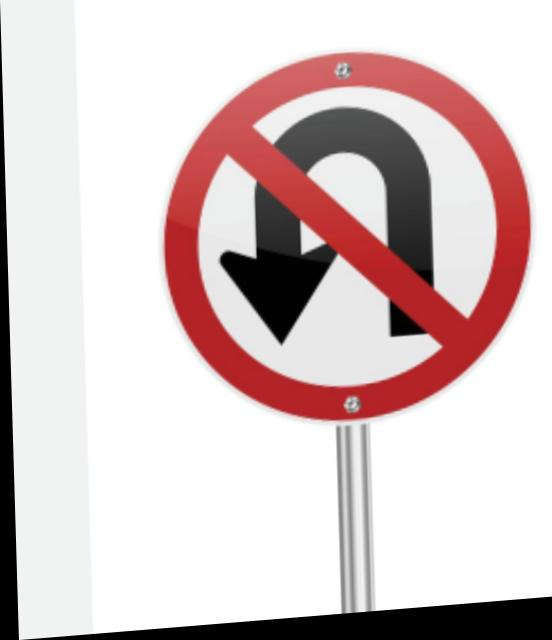not_u_turn_left: (141, 47, 546, 450)
